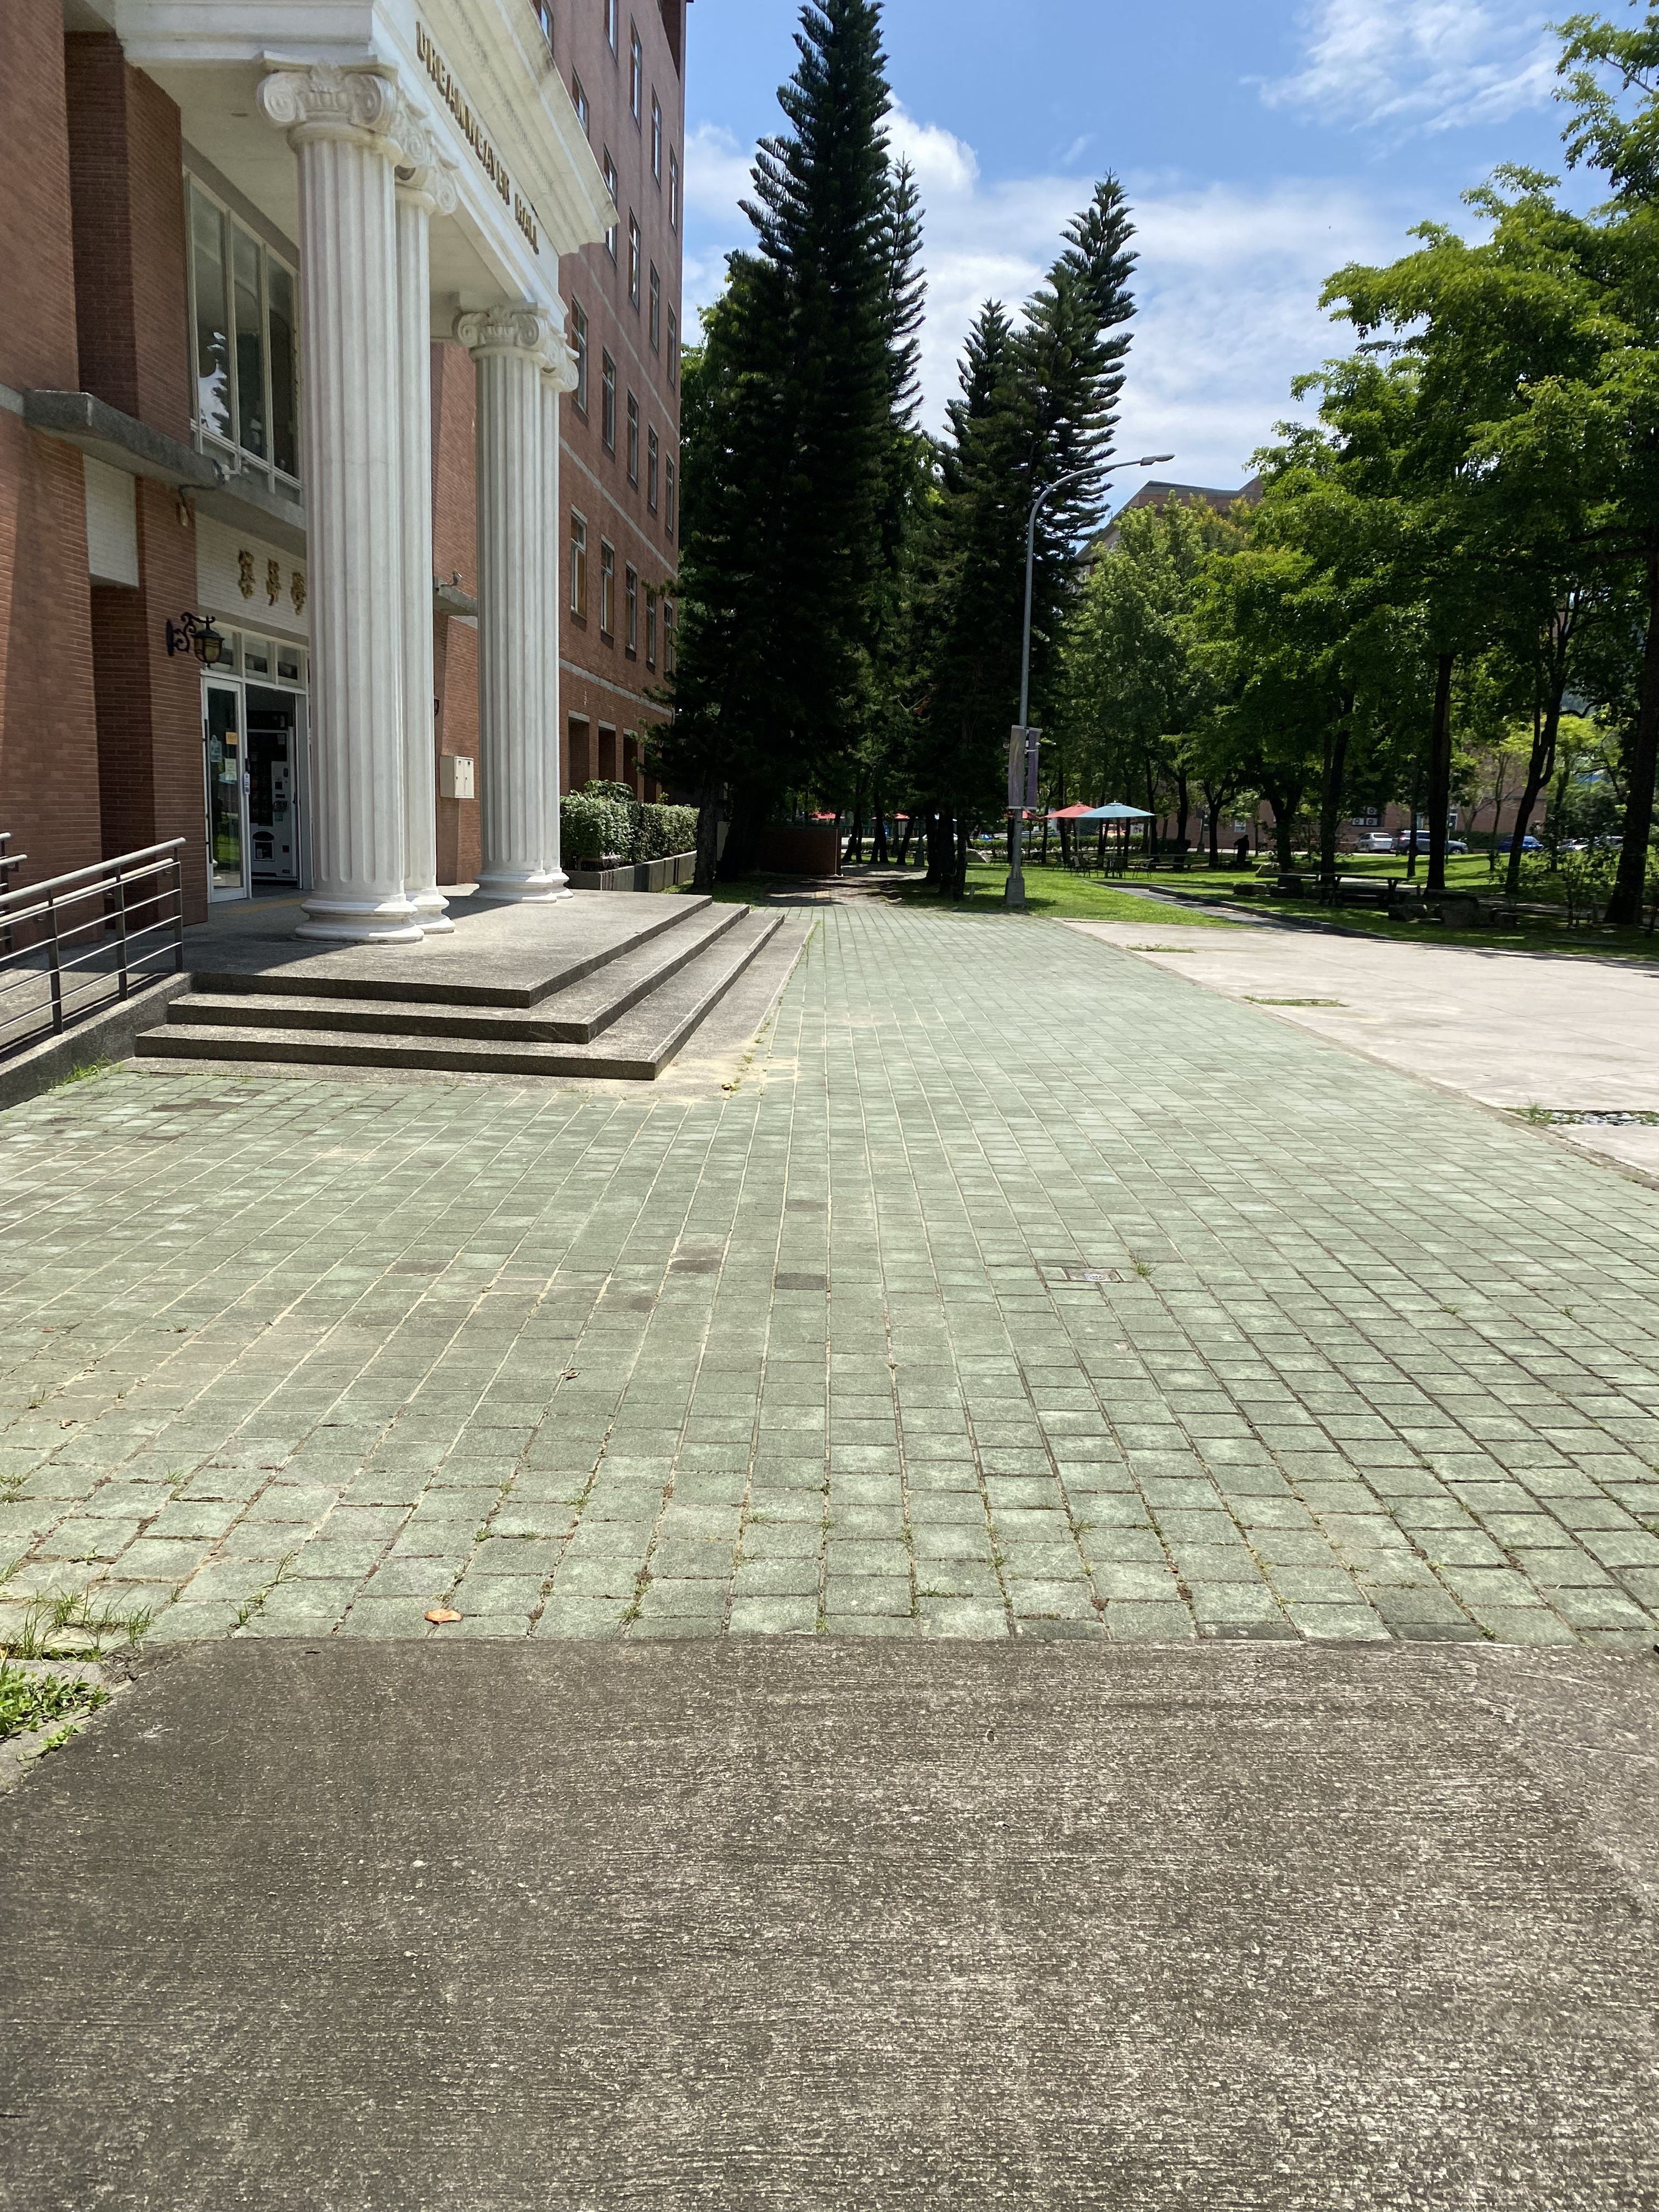0: (3, 981, 659, 2205)
sidewalk: (624, 777, 1659, 2212)
